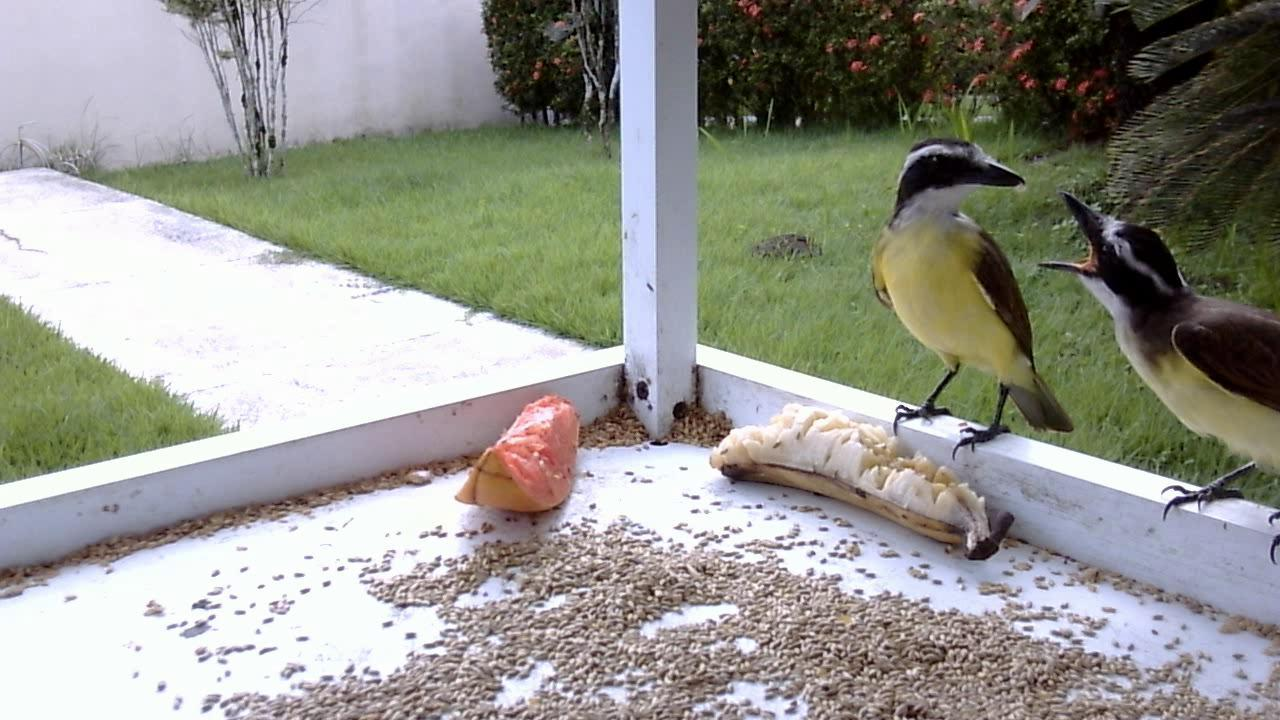bem_te_vi: (1022, 191, 1280, 560), (867, 134, 1077, 470)
